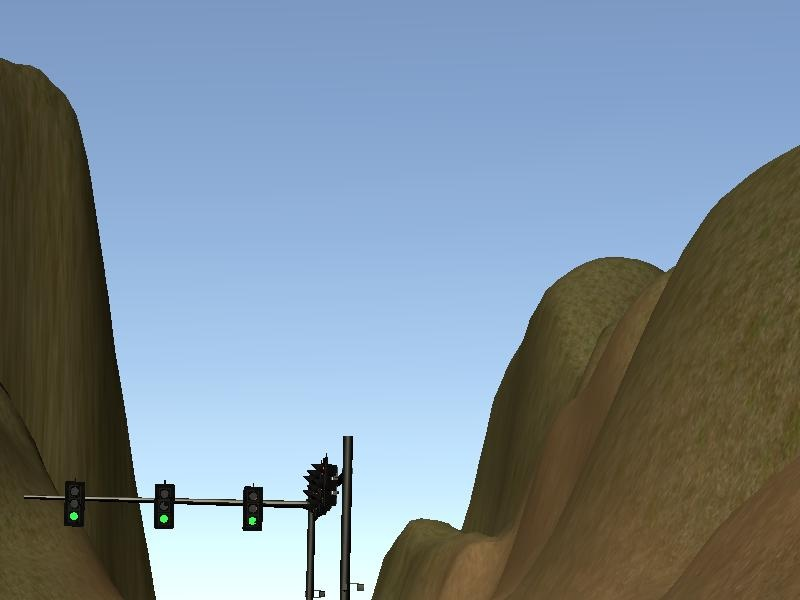green: (243, 487, 264, 532), (155, 484, 175, 530), (67, 481, 84, 527)
